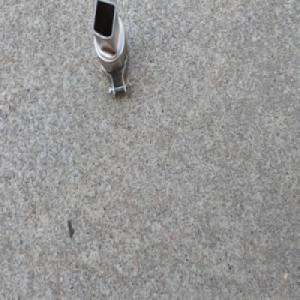MetalPart: (90, 0, 134, 102)
